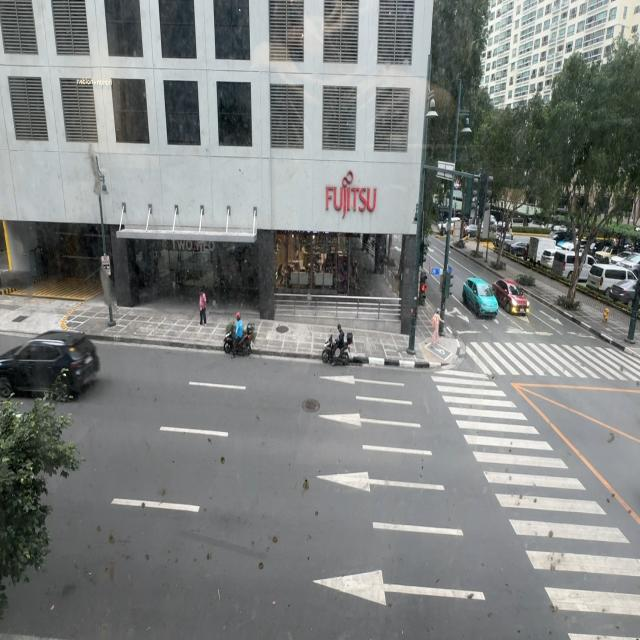pedestrain: (200, 288, 209, 326)
waiting: (430, 306, 443, 346)
